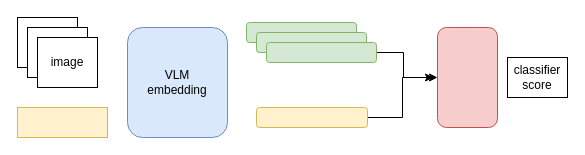
The diagram is 585 pixels wide and 155 high, and some of its shapes have lost their labels. The centre of each missing label's shape, as x and y in pixels:
"query" belongs at point (62, 122).
"Renker" belongs at point (467, 77).
